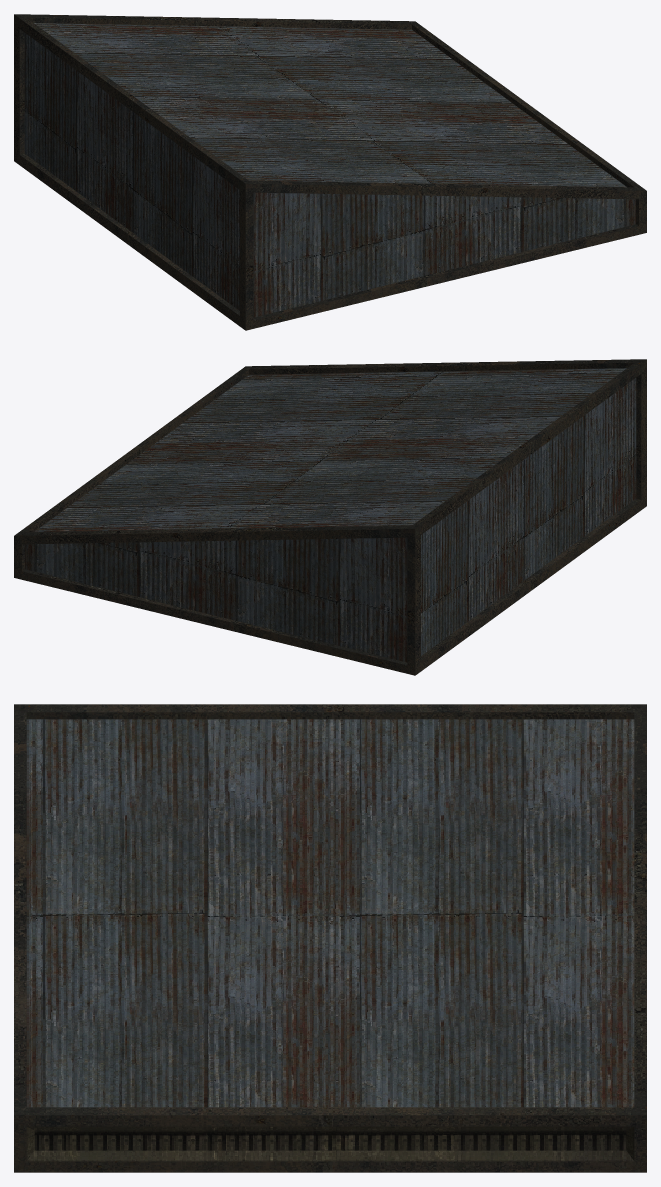
The model's file is roof_mh_2.glb.
The picture shows the model from 3 angles, top to bottom: view 1: azimuth 30°, elevation 25°; view 2: azimuth 150°, elevation 25°; view 3: azimuth 270°, elevation 25°; orthographic projection. The views are drawn at different scales.
Visible parts, largest first — view 1: roof_mh_2; view 2: roof_mh_2; view 3: roof_mh_2.
Boxes of the visible parts, x1,y1,x2,y2 form: roof_mh_2: (14, 14, 646, 330); roof_mh_2: (14, 359, 646, 675); roof_mh_2: (14, 704, 646, 1172).
Bounding box in the file's own units: 4 × 1.4 × 4.
5 materials, 5 textured.
